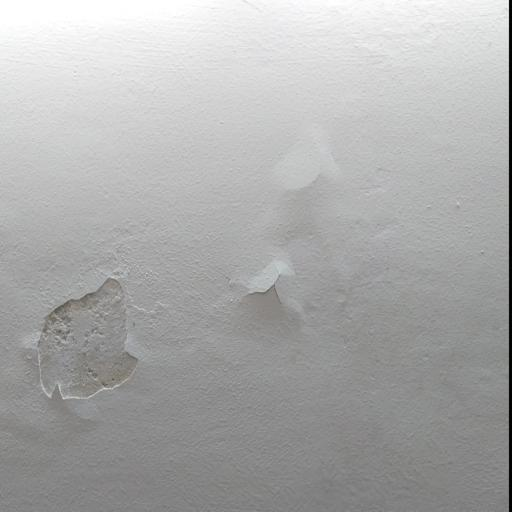peeling: (25, 271, 153, 412), (218, 234, 319, 329)
